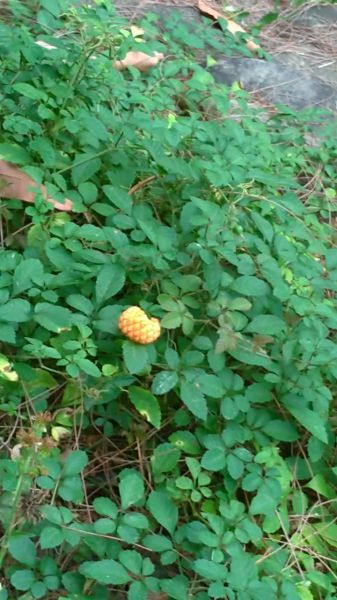eggs: (115, 298, 168, 354)
